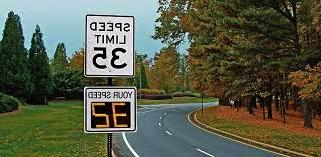speed limit sign: (83, 17, 136, 78)
